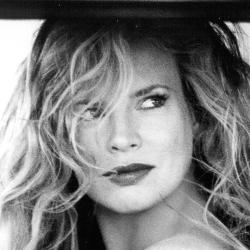face: (11, 12, 246, 229)
